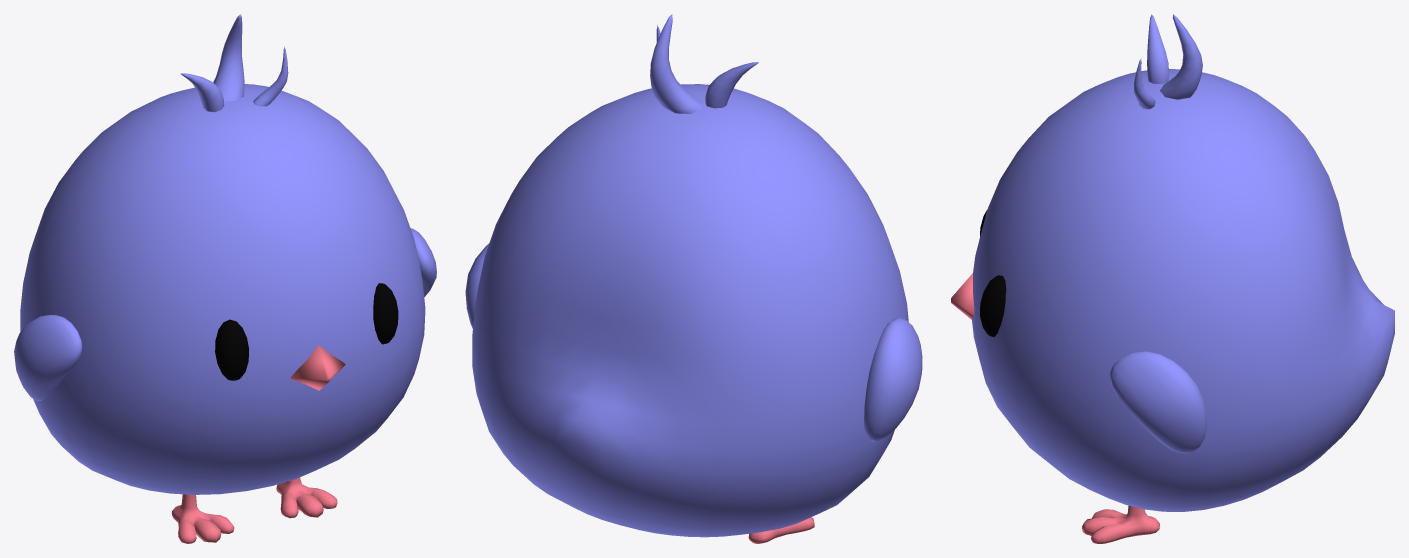
The model's file is chick.fbx.
3 renders of one model, left to right at view 1: azimuth 30°, elevation 25°; view 2: azimuth 150°, elevation 25°; view 3: azimuth 270°, elevation 25°, orthographic. The views are drawn at different scales.
Parts seen in each view (by area): view 1: Body, Rfoot, Lfoot; view 2: Body, Rfoot; view 3: Body, Lfoot.
Boxes of the visible parts, x1=… form: Body: x1=14, y1=14, x2=436, y2=494; Rfoot: x1=171, y1=494, x2=234, y2=543; Lfoot: x1=276, y1=477, x2=337, y2=518; Body: x1=465, y1=14, x2=922, y2=537; Rfoot: x1=748, y1=517, x2=814, y2=543; Body: x1=951, y1=14, x2=1394, y2=511; Lfoot: x1=1082, y1=505, x2=1159, y2=543.
Size of the model in its own units: 354 by 401 by 321.
